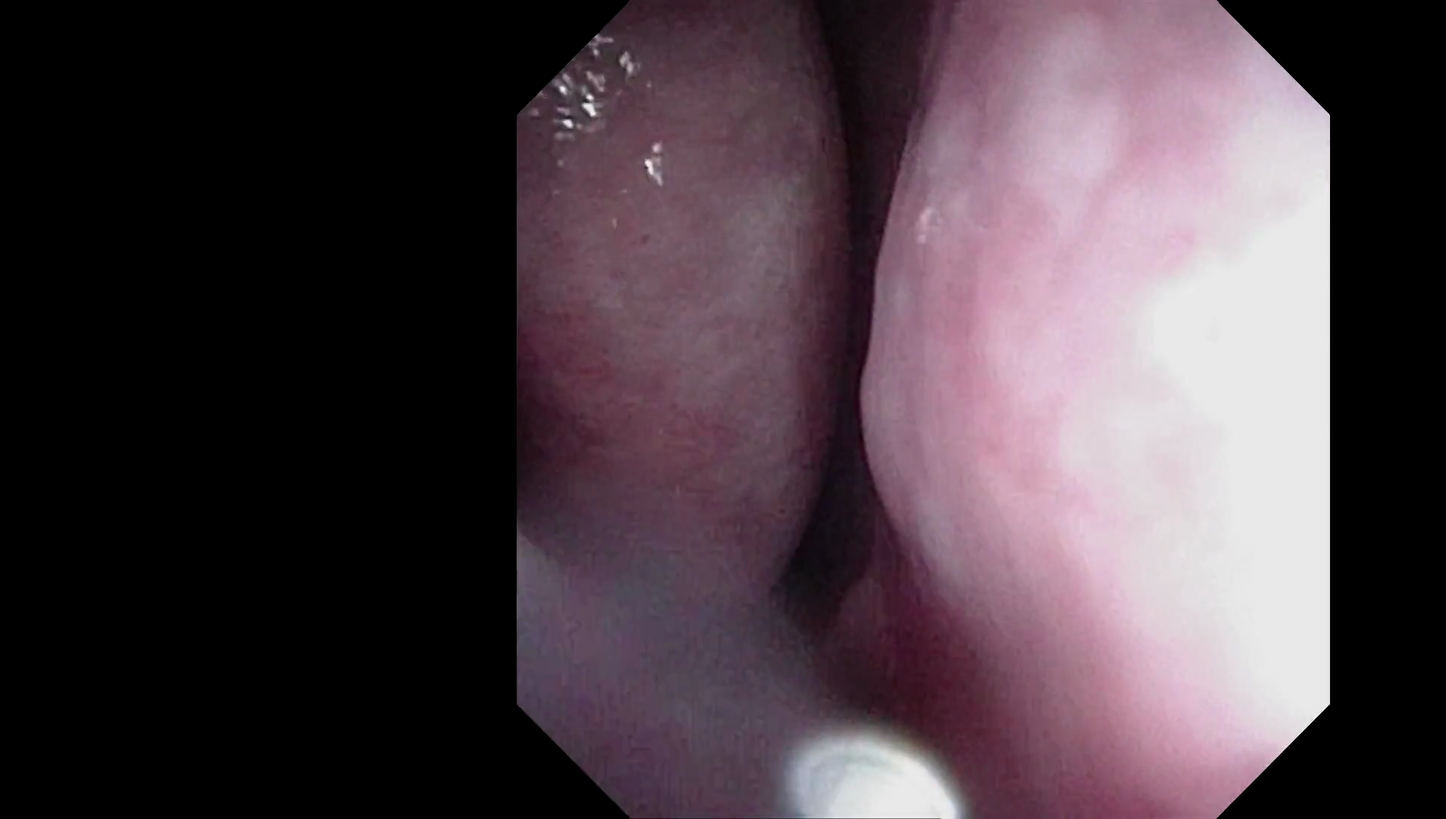close_wall: (943, 120, 1326, 700)
next: (748, 334, 904, 653), (789, 0, 918, 322)
